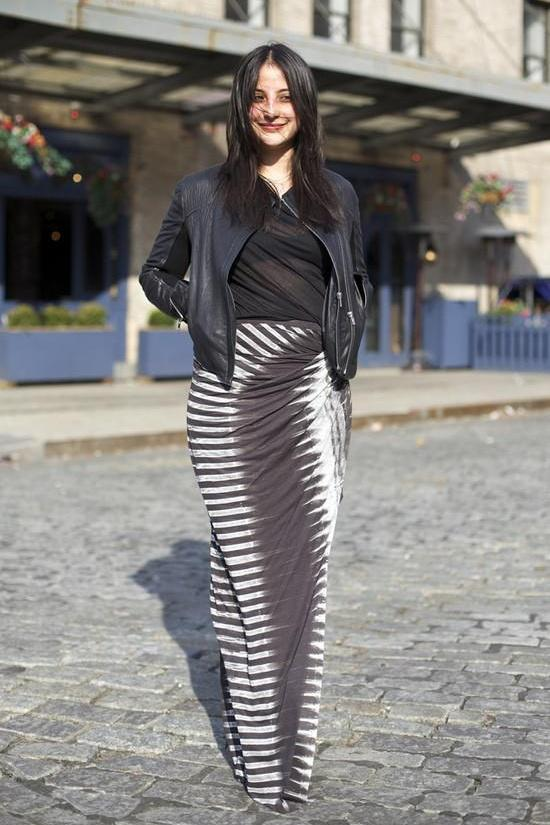skirt: (187, 321, 353, 813)
sweater: (146, 167, 372, 380)
